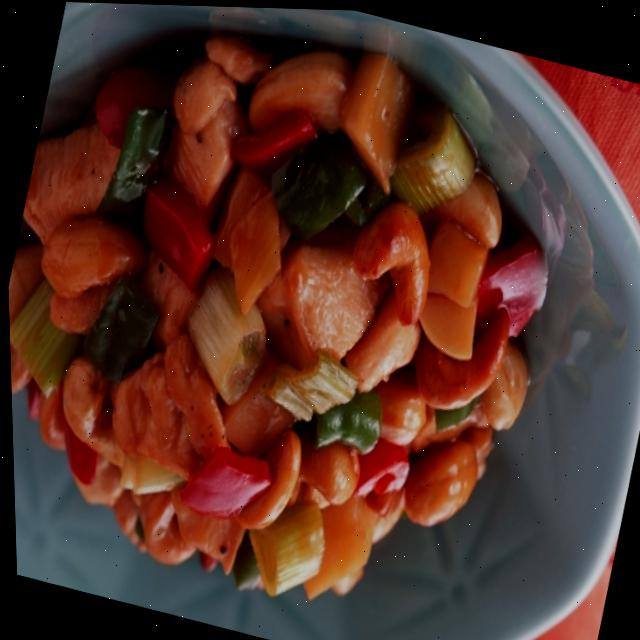鸡肉料理 含炸鸡: (0, 0, 637, 640)
